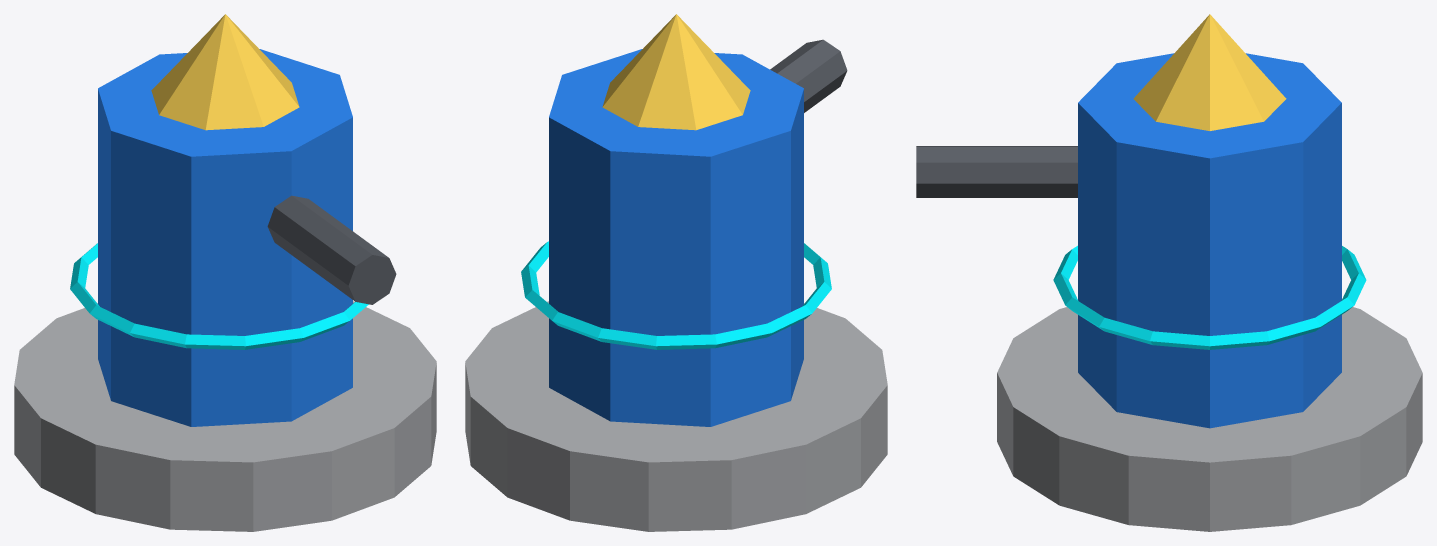
The model's file is TD_BasicTower_T0.fbx.
3 renders of one model, left to right at view 1: azimuth 30°, elevation 25°; view 2: azimuth 150°, elevation 25°; view 3: azimuth 270°, elevation 25°, orthographic.
Visible parts, largest first — view 1: TD_BasicTower_T0_Body, TD_BasicTower_T0_Base, TD_BasicTower_T0_Top, TD_BasicTower_T0_Barrel, TD_BasicTower_T0_AccentRing; view 2: TD_BasicTower_T0_Body, TD_BasicTower_T0_Base, TD_BasicTower_T0_Top, TD_BasicTower_T0_AccentRing, TD_BasicTower_T0_Barrel; view 3: TD_BasicTower_T0_Body, TD_BasicTower_T0_Base, TD_BasicTower_T0_Top, TD_BasicTower_T0_Barrel, TD_BasicTower_T0_AccentRing.
Part boxes in pixels (x1,y1,x2,y2): TD_BasicTower_T0_Body: (98, 49, 352, 426); TD_BasicTower_T0_Base: (14, 301, 436, 531); TD_BasicTower_T0_Top: (151, 14, 299, 130); TD_BasicTower_T0_Barrel: (267, 195, 396, 304); TD_BasicTower_T0_AccentRing: (70, 243, 368, 349); TD_BasicTower_T0_Body: (549, 49, 803, 426); TD_BasicTower_T0_Base: (465, 301, 887, 531); TD_BasicTower_T0_Top: (602, 14, 750, 130); TD_BasicTower_T0_AccentRing: (521, 241, 831, 349); TD_BasicTower_T0_Barrel: (770, 39, 847, 112); TD_BasicTower_T0_Body: (1078, 53, 1341, 428); TD_BasicTower_T0_Base: (997, 307, 1422, 531); TD_BasicTower_T0_Top: (1133, 14, 1286, 130); TD_BasicTower_T0_Barrel: (916, 146, 1077, 197); TD_BasicTower_T0_AccentRing: (1053, 245, 1366, 349).
Bounding box in the file's own units: 1 × 1.11 × 1.19.
